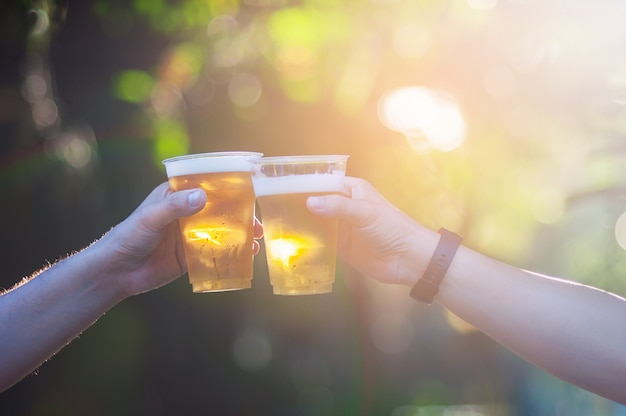alcohol: (246, 153, 352, 295), (158, 152, 265, 292)
